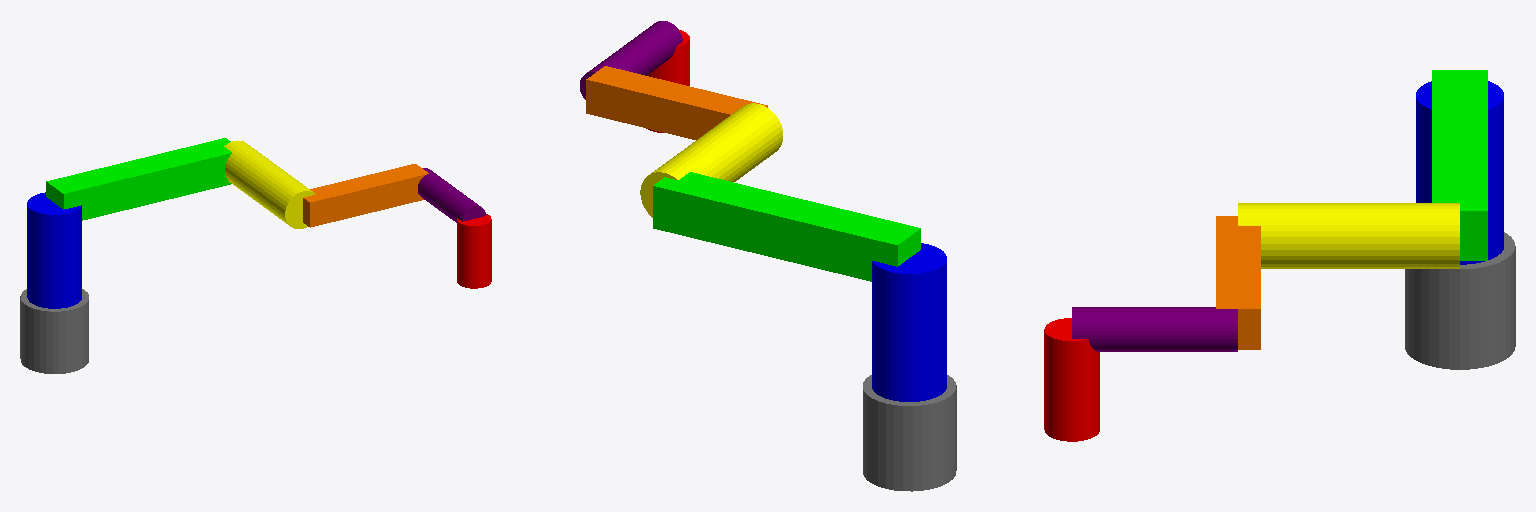
The robot description file, URDF, robot "staubli_tx60":
<?xml version="1.0"?>
<robot name="staubli_tx60">

  <link name="world"/>
  <link name="base_link">
    <visual>
      <origin xyz="0 0 0.1" rpy="0 0 0"/>
      <geometry>
        <cylinder radius="0.1" length="0.2"/>
      </geometry>
      <material name="gray">
        <color rgba="0.5 0.5 0.5 1.0"/>
      </material>
    </visual>
    <collision>
      <origin xyz="0 0 0.1" rpy="0 0 0"/>
      <geometry>
        <cylinder radius="0.1" length="0.2"/>
      </geometry>
    </collision>
    <inertial>
      <mass value="10.0"/>
      <inertia ixx="0.1" ixy="0" ixz="0" iyy="0.1" iyz="0" izz="0.1"/>
    </inertial>
  </link>

  <link name="link1">
    <visual>
      <origin xyz="0 0 0.15" rpy="0 0 0"/>
      <geometry>
        <cylinder radius="0.08" length="0.3"/>
      </geometry>
      <material name="blue">
        <color rgba="0.0 0.0 1.0 1.0"/>
      </material>
    </visual>
    <collision>
      <origin xyz="0 0 0.15" rpy="0 0 0"/>
      <geometry>
        <cylinder radius="0.08" length="0.3"/>
      </geometry>
    </collision>
    <inertial>
      <mass value="5.0"/>
      <inertia ixx="0.05" ixy="0" ixz="0" iyy="0.05" iyz="0" izz="0.05"/>
    </inertial>
  </link>

  <link name="link2">
    <visual>
      <origin xyz="0.3 0 0" rpy="0 0 0"/>
      <geometry>
        <box size="0.6 0.1 0.1"/>
      </geometry>
      <material name="green">
        <color rgba="0.0 1.0 0.0 1.0"/>
      </material>
    </visual>
    <collision>
      <origin xyz="0.3 0 0" rpy="0 0 0"/>
      <geometry>
        <box size="0.6 0.1 0.1"/>
      </geometry>
    </collision>
    <inertial>
      <mass value="4.0"/>
      <inertia ixx="0.04" ixy="0" ixz="0" iyy="0.04" iyz="0" izz="0.04"/>
    </inertial>
  </link>

  <link name="link3">
    <visual>
      <origin xyz="0 0 0.2" rpy="0 0 0"/>
      <geometry>
        <cylinder radius="0.06" length="0.4"/>
      </geometry>
      <material name="yellow">
        <color rgba="1.0 1.0 0.0 1.0"/>
      </material>
    </visual>
    <collision>
      <origin xyz="0 0 0.2" rpy="0 0 0"/>
      <geometry>
        <cylinder radius="0.06" length="0.4"/>
      </geometry>
    </collision>
    <inertial>
      <mass value="3.0"/>
      <inertia ixx="0.03" ixy="0" ixz="0" iyy="0.03" iyz="0" izz="0.03"/>
    </inertial>
  </link>

  <link name="link4">
    <visual>
      <origin xyz="0.2 0 0" rpy="0 0 0"/>
      <geometry>
        <box size="0.4 0.08 0.08"/>
      </geometry>
      <material name="orange">
        <color rgba="1.0 0.5 0.0 1.0"/>
      </material>
    </visual>
    <collision>
      <origin xyz="0.2 0 0" rpy="0 0 0"/>
      <geometry>
        <box size="0.4 0.08 0.08"/>
      </geometry>
    </collision>
    <inertial>
      <mass value="2.0"/>
      <inertia ixx="0.02" ixy="0" ixz="0" iyy="0.02" iyz="0" izz="0.02"/>
    </inertial>
  </link>

  <link name="link5">
    <visual>
      <origin xyz="0 0 0.15" rpy="0 0 0"/>
      <geometry>
        <cylinder radius="0.04" length="0.3"/>
      </geometry>
      <material name="purple">
        <color rgba="0.5 0.0 0.5 1.0"/>
      </material>
    </visual>
    <collision>
      <origin xyz="0 0 0.15" rpy="0 0 0"/>
      <geometry>
        <cylinder radius="0.04" length="0.3"/>
      </geometry>
    </collision>
    <inertial>
      <mass value="1.5"/>
      <inertia ixx="0.015" ixy="0" ixz="0" iyy="0.015" iyz="0" izz="0.015"/>
    </inertial>
  </link>

  <link name="link6">
    <visual>
      <origin xyz="0 0 0.1" rpy="0 0 0"/>
      <geometry>
        <cylinder radius="0.05" length="0.2"/>
      </geometry>
      <material name="red">
        <color rgba="1.0 0.0 0.0 1.0"/>
      </material>
    </visual>
    <collision>
      <origin xyz="0 0 0.1" rpy="0 0 0"/>
      <geometry>
        <cylinder radius="0.05" length="0.2"/>
      </geometry>
    </collision>
    <inertial>
      <mass value="1.0"/>
      <inertia ixx="0.01" ixy="0" ixz="0" iyy="0.01" iyz="0" izz="0.01"/>
    </inertial>
  </link>

  <joint name="base_to_world" type="fixed">
    <parent link="world"/>
    <child link="base_link"/>
    <origin xyz="0 0 0" rpy="0 0 0"/>
  </joint>

  <joint name="joint1" type="revolute">
    <parent link="base_link"/>
    <child link="link1"/>
    <origin xyz="0 0 0.2" rpy="0 0 0"/>
    <axis xyz="0 0 1"/>
    <limit lower="-3.14159" upper="3.14159" effort="100" velocity="1.0"/>
  </joint>

  <joint name="joint2" type="revolute">
    <parent link="link1"/>
    <child link="link2"/>
    <origin xyz="0 0 0.3" rpy="1.5708 0 0"/>
    <axis xyz="0 0 1"/>
    <limit lower="-2.0944" upper="2.0944" effort="100" velocity="1.0"/>
  </joint>

  <joint name="joint3" type="revolute">
    <parent link="link2"/>
    <child link="link3"/>
    <origin xyz="0.6 0 0" rpy="0 0 0"/>
    <axis xyz="0 0 1"/>
    <limit lower="-2.618" upper="2.618" effort="100" velocity="1.0"/>
  </joint>

  <joint name="joint4" type="revolute">
    <parent link="link3"/>
    <child link="link4"/>
    <origin xyz="0 0 0.4" rpy="1.5708 0 0"/>
    <axis xyz="0 0 1"/>
    <limit lower="-3.14159" upper="3.14159" effort="100" velocity="1.0"/>
  </joint>

  <joint name="joint5" type="revolute">
    <parent link="link4"/>
    <child link="link5"/>
    <origin xyz="0.4 0 0" rpy="-1.5708 0 0"/>
    <axis xyz="0 0 1"/>
    <limit lower="-2.0944" upper="2.0944" effort="100" velocity="1.0"/>
  </joint>

  <joint name="joint6" type="revolute">
    <parent link="link5"/>
    <child link="link6"/>
    <origin xyz="0 0 0.3" rpy="1.5708 0 0"/>
    <axis xyz="0 0 1"/>
    <limit lower="-3.14159" upper="3.14159" effort="100" velocity="1.0"/>
  </joint>

</robot>

--- Render facts (derived) ---
The picture shows the robot from 3 angles, left to right: view 1: azimuth 30°, elevation 25°; view 2: azimuth 150°, elevation 25°; view 3: azimuth 270°, elevation 25°; orthographic projection.
Robot: staubli_tx60 — 8 links, 7 joints (6 revolute, 1 fixed); root link world; default pose: every joint at zero.
Visible links, largest first — view 1: link2, link1, base_link, link4, link3, link6, link5; view 2: link2, link1, base_link, link4, link3, link5, link6; view 3: link3, base_link, link2, link5, link6, link4, link1.
Boxes of the visible links, x1,y1,x2,y2 form: link2: (46,138,231,220); link1: (27,192,81,308); base_link: (20,289,88,373); link4: (303,164,428,227); link3: (224,140,315,228); link6: (457,214,491,288); link5: (418,168,485,222); link2: (653,172,920,281); link1: (872,243,946,401); base_link: (863,375,956,491); link4: (586,66,767,139); link3: (640,103,782,217); link5: (580,21,682,99); link6: (646,29,689,132); link3: (1238,203,1459,268); base_link: (1405,232,1515,369); link2: (1432,70,1487,260); link5: (1072,307,1237,351); link6: (1044,318,1099,441); link4: (1216,216,1260,349); link1: (1416,81,1503,264).
Bounding box of the posed robot: 1.15 × 0.85 × 0.56 m (x, y, z).
Geometry: primitives only (box / cylinder / sphere), no mesh files.
